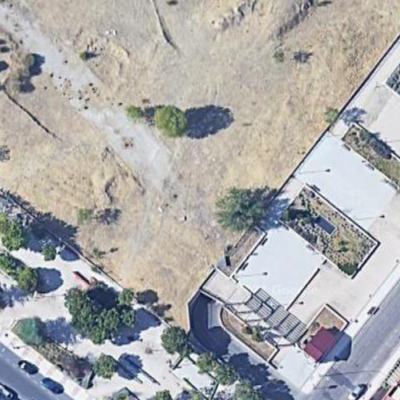tree: (214, 181, 265, 228), (13, 315, 57, 350), (153, 104, 189, 140), (159, 321, 192, 359), (1, 209, 27, 250), (66, 285, 94, 320), (14, 257, 39, 295), (92, 350, 119, 380), (103, 305, 128, 332), (230, 375, 255, 400), (197, 350, 221, 375), (39, 239, 60, 264), (127, 100, 148, 124)
